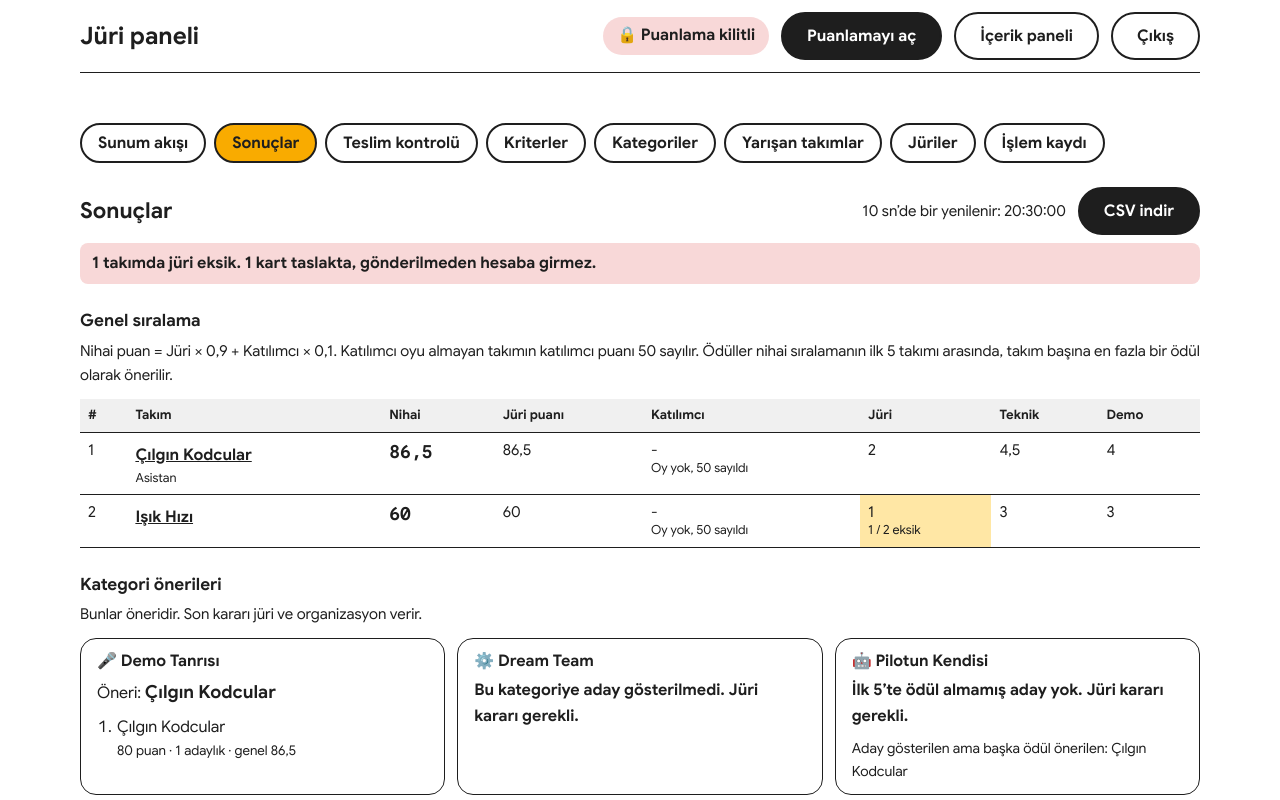
kilitliyken › Kriterler düzenlenemez
Click the button "Kriterler" at (536, 143), box [486,123,586,163]
(page scrolled)
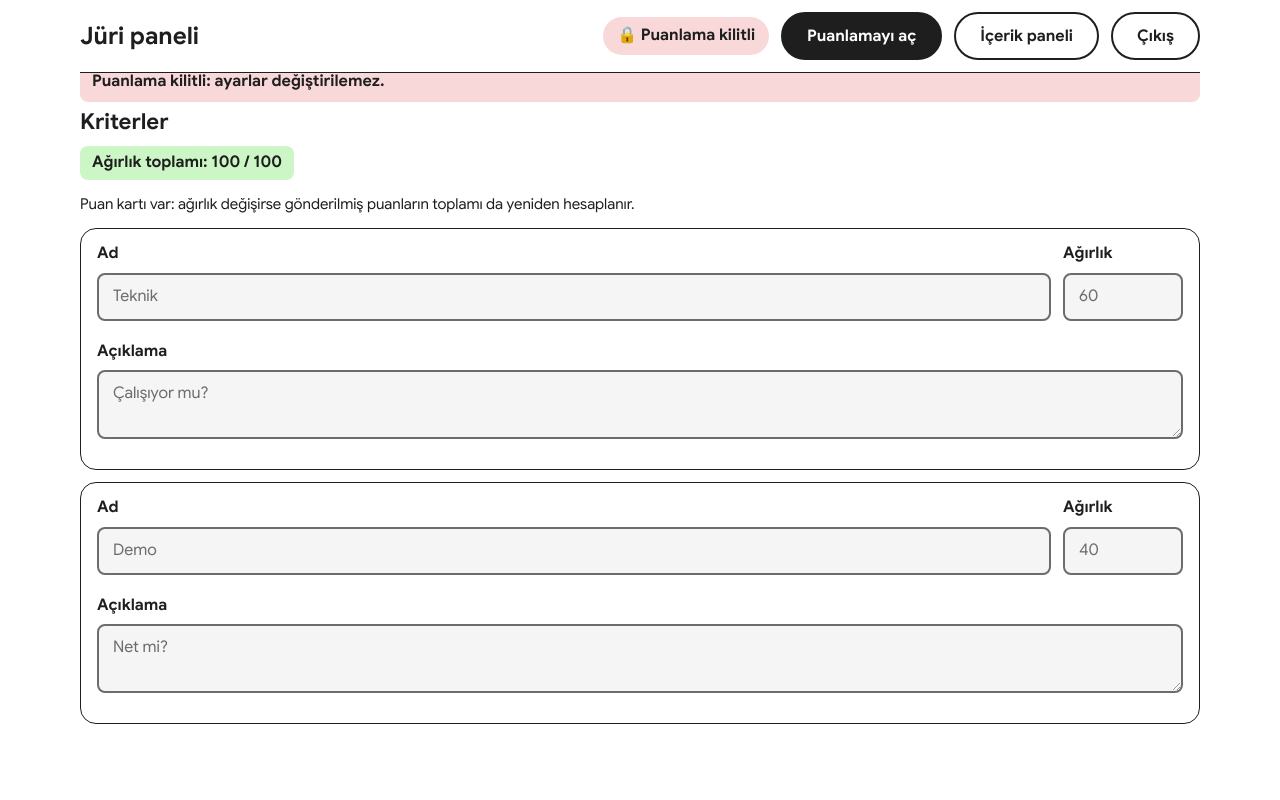
Expected: the text "Puanlama kilitli: ayarlar değiştirilemez." is shown, [80,61,1200,102]
Expected: the 1st field labelled "Ad" is disabled, [97,273,1051,321]
Expected: the 1st text box labelled "Açıklama" is disabled, [97,370,1183,439]
